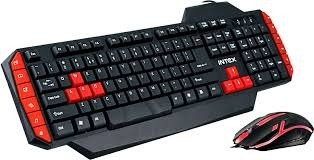keyboard: (5, 0, 311, 104)
mouse: (227, 103, 312, 160)
